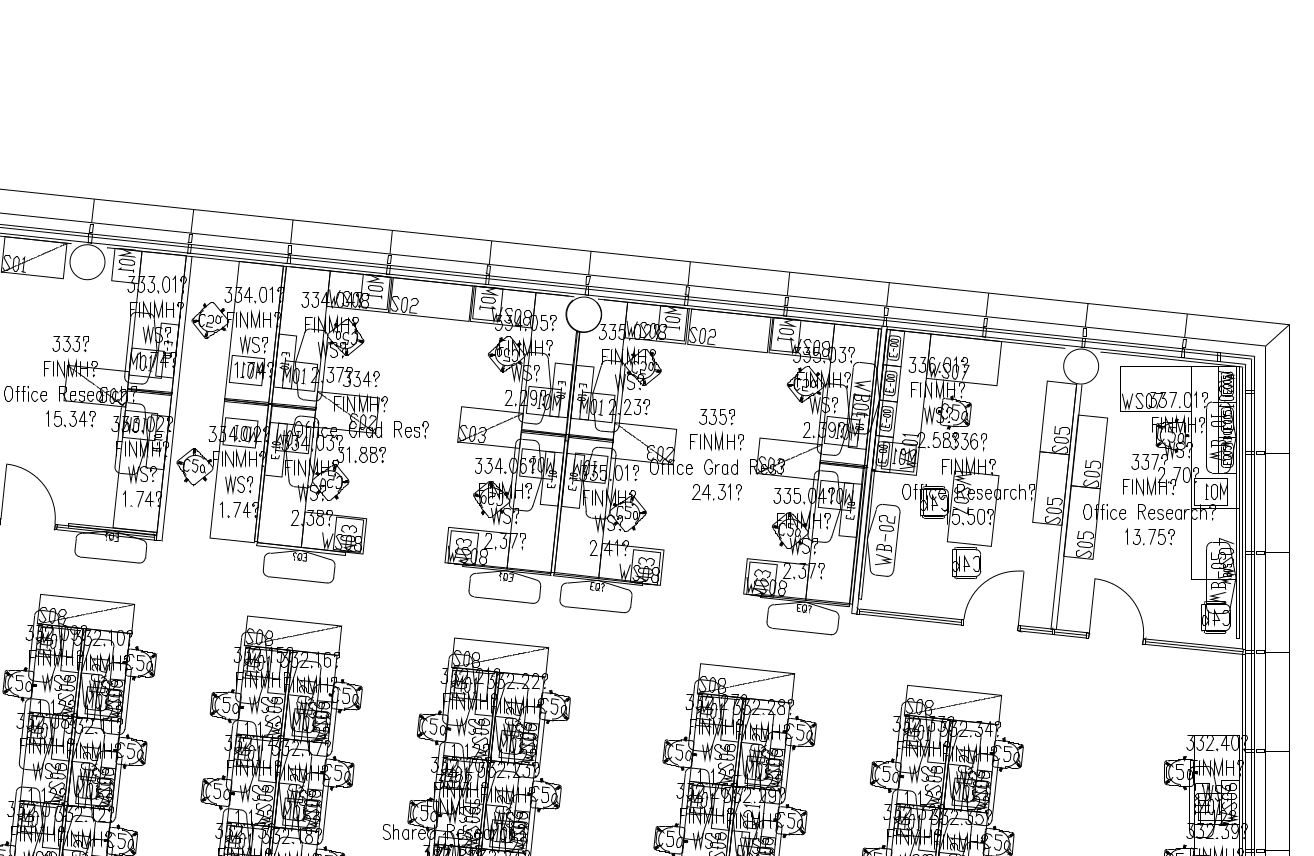door: (962, 561, 1026, 645), (1086, 569, 1150, 653), (1, 457, 64, 541)
